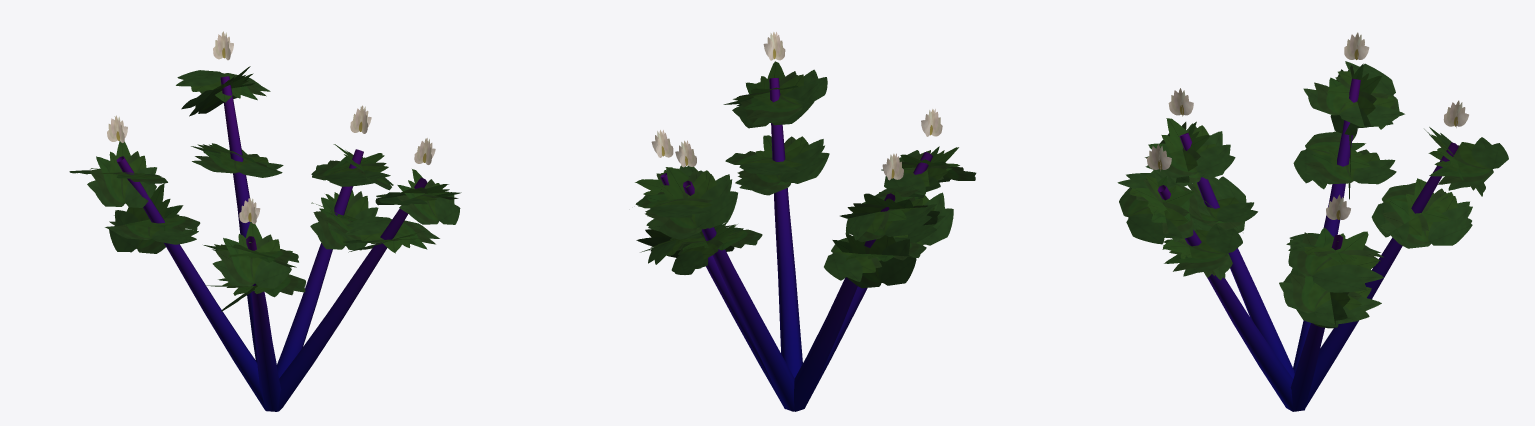
Rendered from ENV_PC_Magnolia_B.fbx.
The picture shows the model from 3 angles, left to right: view 1: azimuth 30°, elevation 25°; view 2: azimuth 150°, elevation 25°; view 3: azimuth 270°, elevation 25°; orthographic projection. The views are drawn at different scales.
Parts seen in each view (by area): view 1: ENV_PC_Magnolia_B_LOD0; view 2: ENV_PC_Magnolia_B_LOD0; view 3: ENV_PC_Magnolia_B_LOD0.
Part boxes in pixels (left/top/right/bottom): ENV_PC_Magnolia_B_LOD0: left=69, top=31, right=461, bottom=411; ENV_PC_Magnolia_B_LOD0: left=635, top=32, right=976, bottom=411; ENV_PC_Magnolia_B_LOD0: left=1117, top=32, right=1508, bottom=411.
Size of what is drawn, in the model's own units: 2.86 by 2.21 by 2.73.
